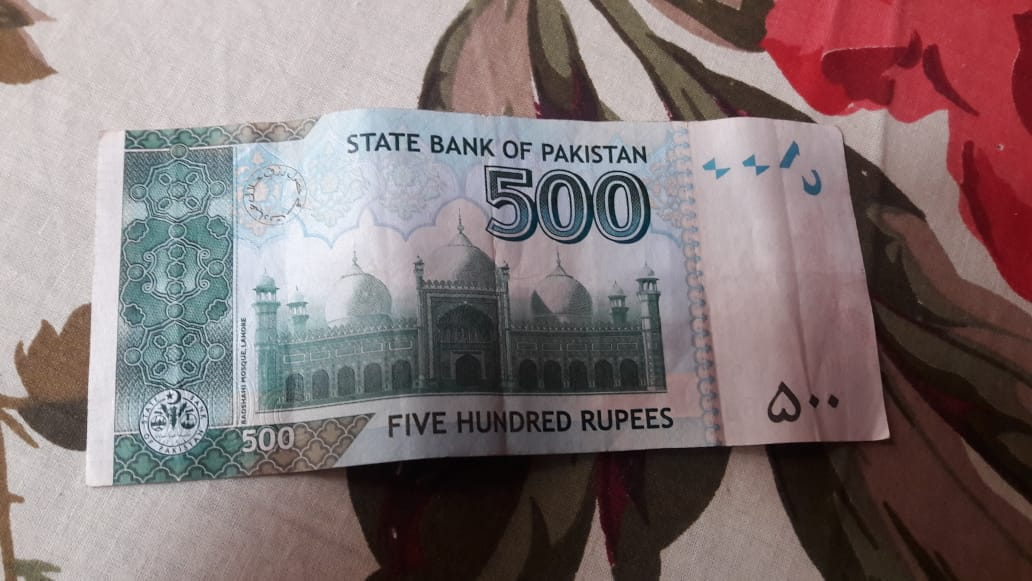500 rupee: (79, 108, 895, 464)
